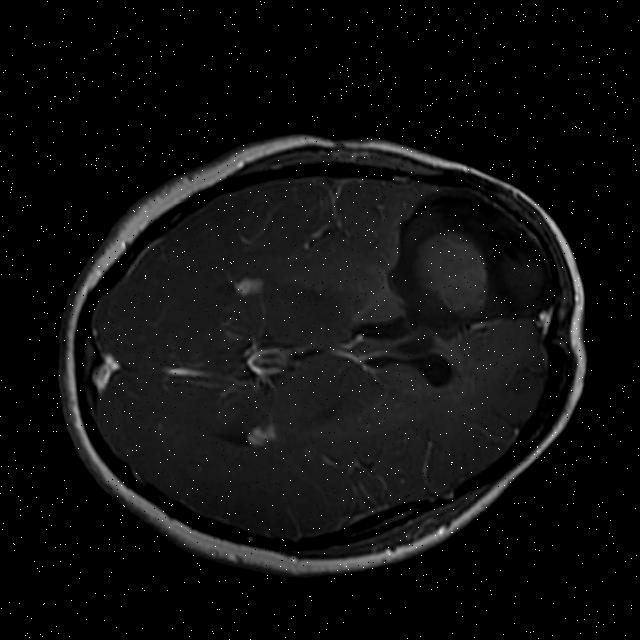Glioma: (403, 219, 500, 329)
